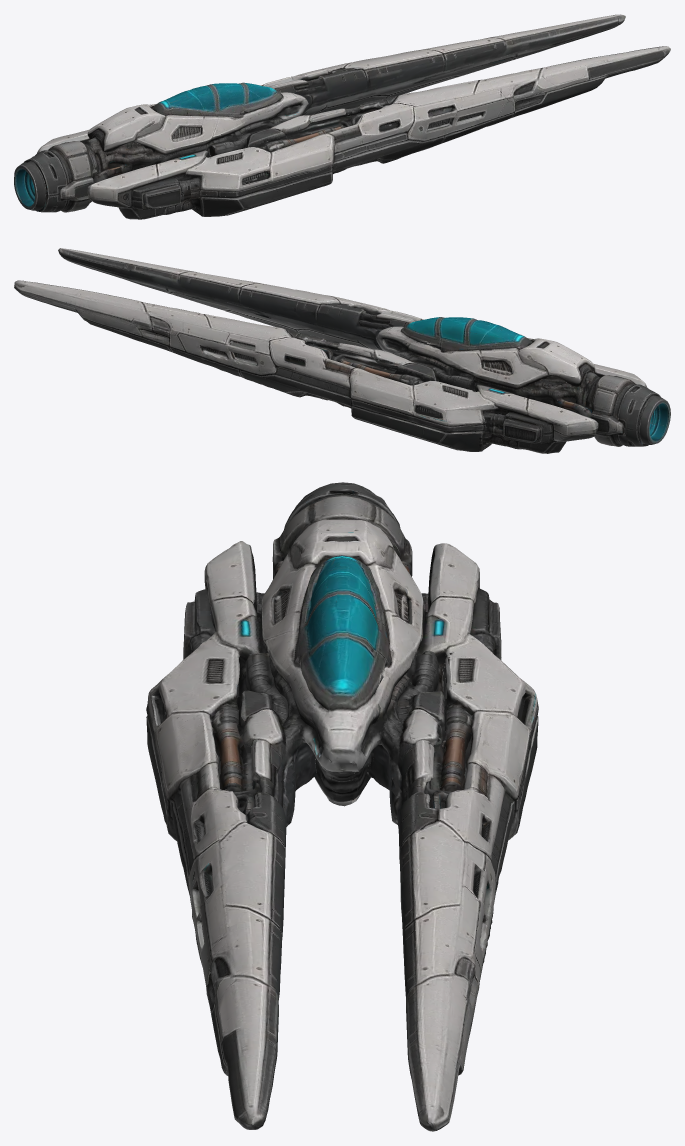
The model's file is needle.glb.
3 views of the same model, one above another, from view 1: azimuth 30°, elevation 25°; view 2: azimuth 150°, elevation 25°; view 3: azimuth 270°, elevation 25° (orthographic). The views are drawn at different scales.
Visible parts, largest first — view 1: Mesh0_game; view 2: Mesh0_game; view 3: Mesh0_game.
Part boxes in pixels (x1=…): Mesh0_game: x1=14, y1=14, x2=670, y2=219; Mesh0_game: x1=14, y1=248, x2=670, y2=453; Mesh0_game: x1=146, y1=482, x2=538, y2=1131.
Bounding box in the file's own units: 1.45 × 0.2157 × 0.3942.
1 material, 1 textured.
